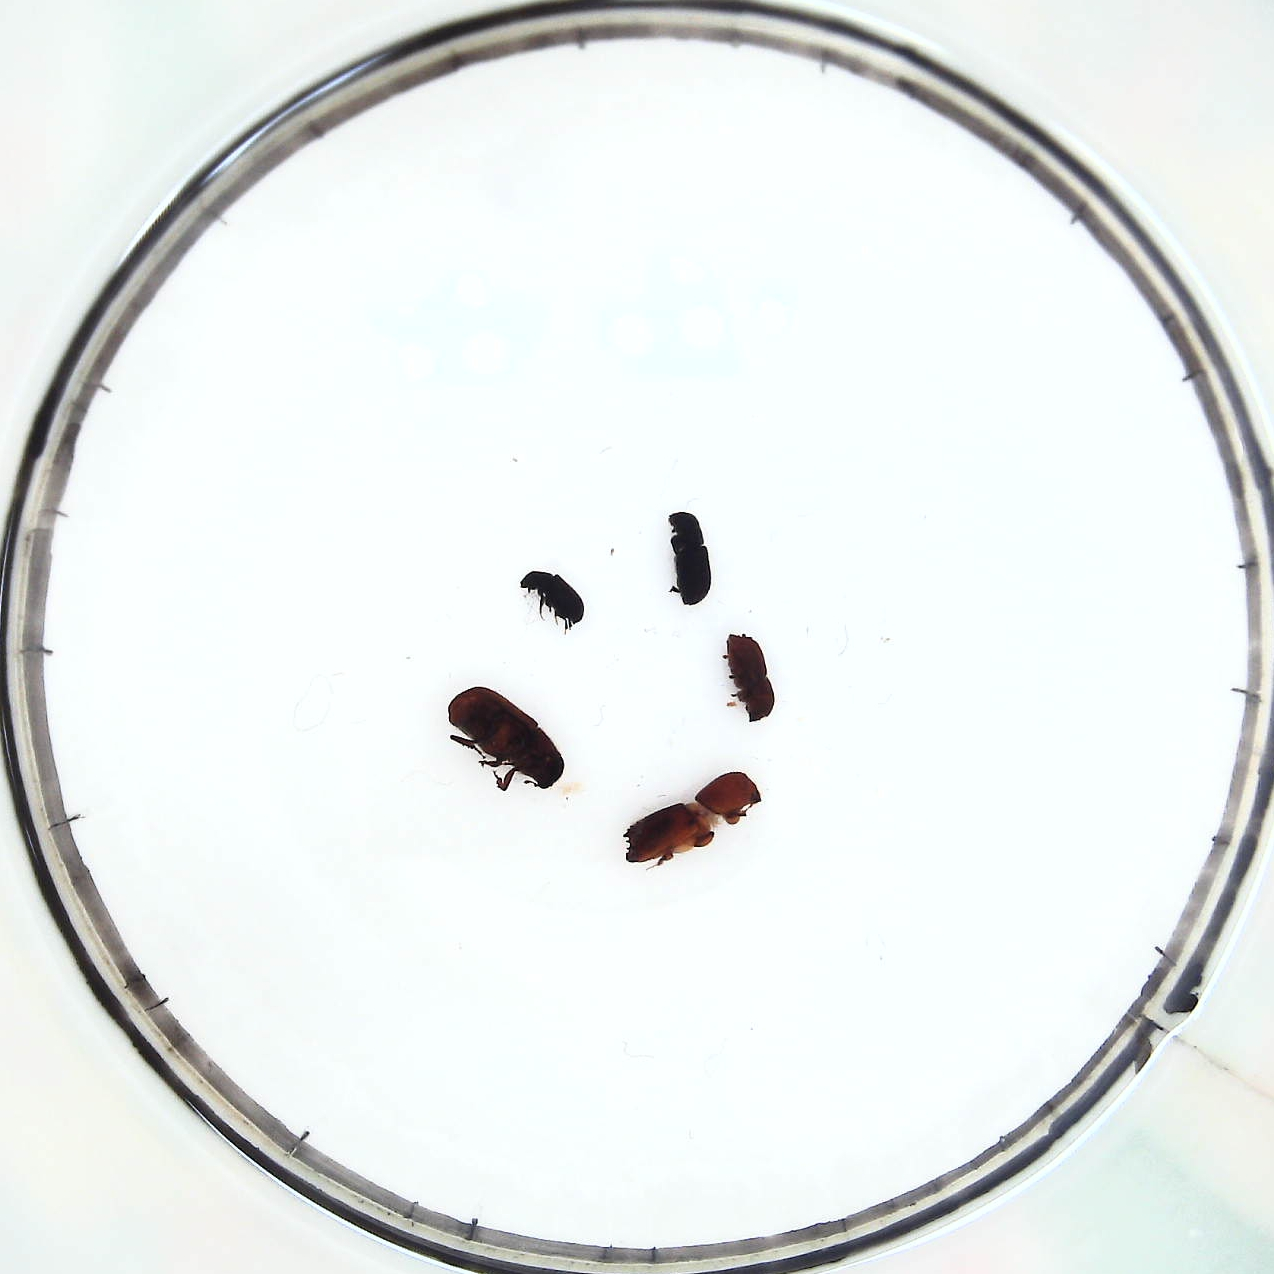Boerner: (625, 768, 764, 871)
Leconte: (442, 680, 570, 799)
Linnaeus: (722, 630, 779, 726)
armandi: (670, 511, 717, 609)
coleoptera: (518, 563, 584, 626)
